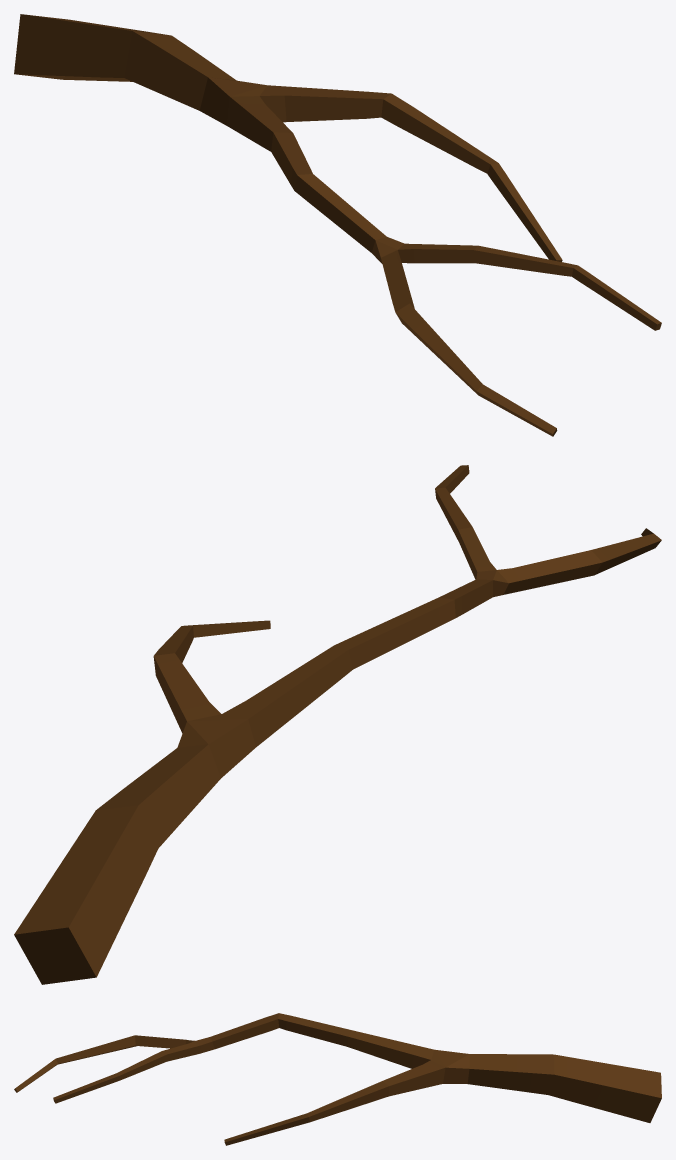
The model's file is Branch.fbx.
The picture shows the model from 3 angles, top to bottom: view 1: azimuth 30°, elevation 25°; view 2: azimuth 150°, elevation 25°; view 3: azimuth 270°, elevation 25°; orthographic projection. The views are drawn at different scales.
Visible parts, largest first — view 1: Branch; view 2: Branch; view 3: Branch.
Part boxes in pixels (x1=…): Branch: x1=14, y1=14, x2=661, y2=436; Branch: x1=14, y1=465, x2=661, y2=984; Branch: x1=14, y1=1013, x2=661, y2=1145.
Size of the model in its own units: 35.24 by 20.17 by 133.
